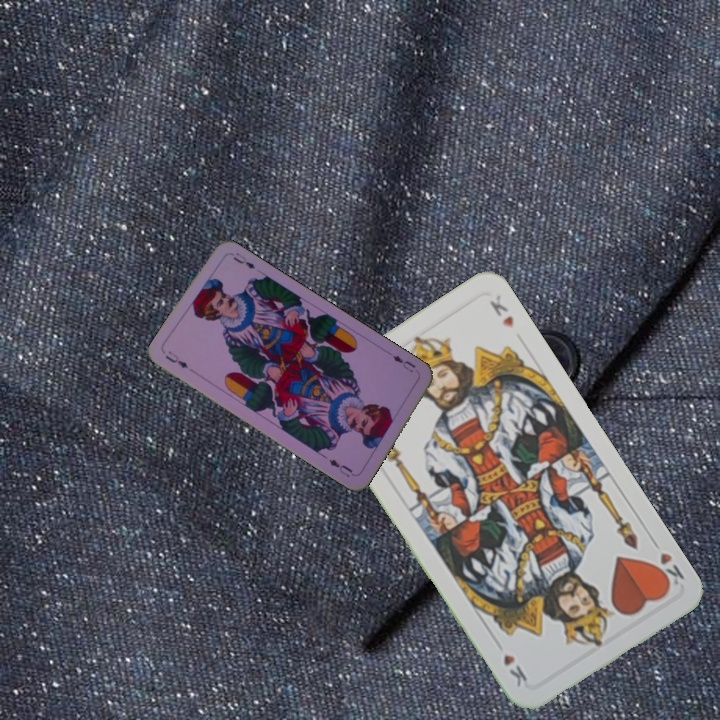EU: (388, 351, 418, 375), (161, 347, 191, 371)
HK: (647, 534, 687, 592)
